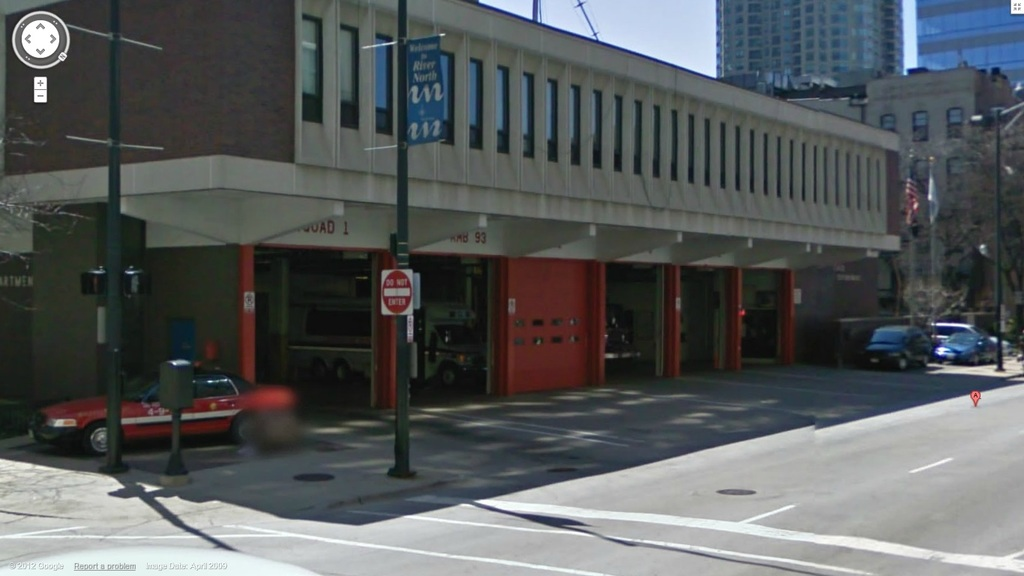Car: (29, 362, 248, 452), (862, 325, 935, 371), (934, 332, 1004, 366), (928, 321, 1006, 351)
